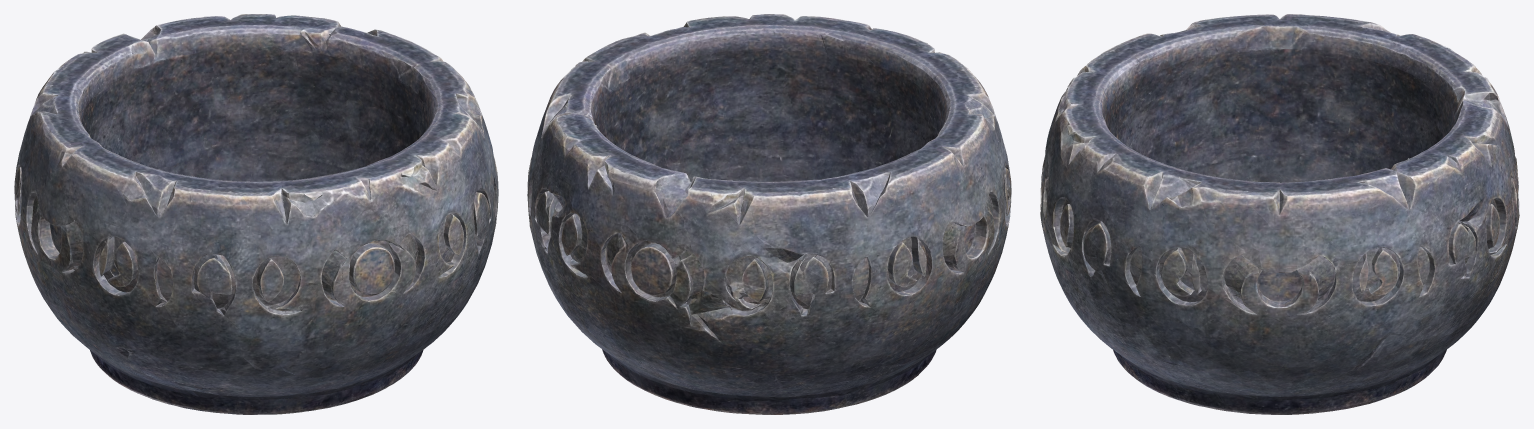
Rendered from mortar.glb.
The picture shows the model from 3 angles, left to right: view 1: azimuth 30°, elevation 25°; view 2: azimuth 150°, elevation 25°; view 3: azimuth 270°, elevation 25°; orthographic projection.
Bounding box in the file's own units: 0.9998 × 0.5598 × 0.9985.
Materials: 1 (1 with a texture image).
